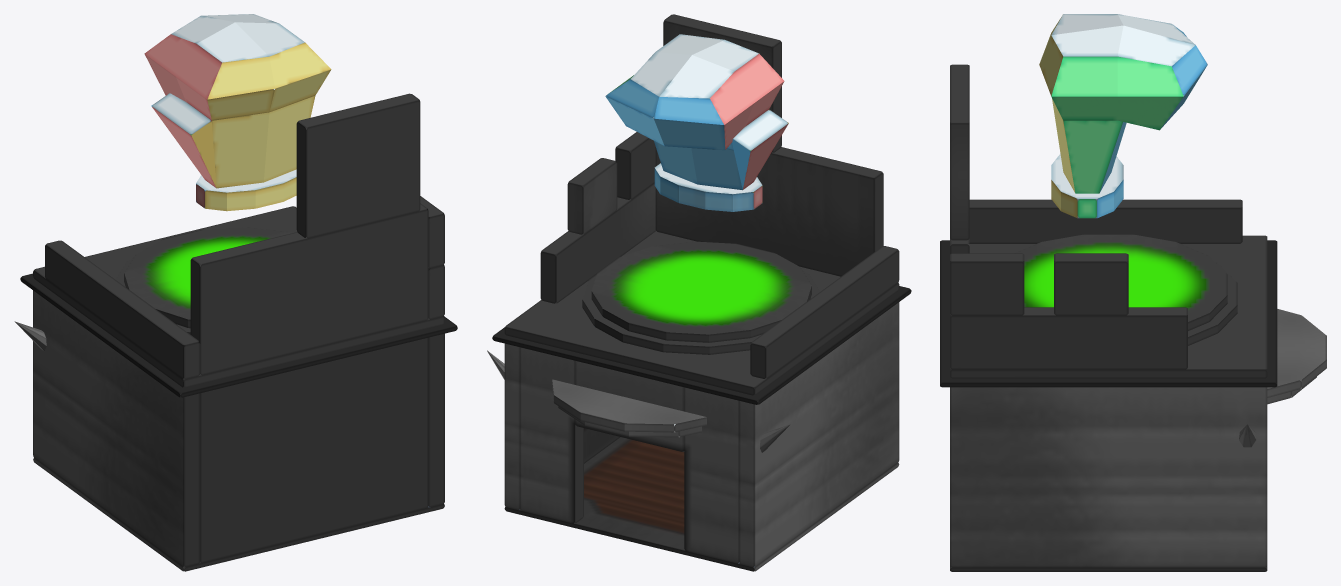
File: BoxingBuilding.fbx
3 views of the same model, side by side, from view 1: azimuth 30°, elevation 25°; view 2: azimuth 150°, elevation 25°; view 3: azimuth 270°, elevation 25° (orthographic). The views are drawn at different scales.
Visible parts, largest first — view 1: cuboid_3, cuboid_2, cuboid_13, Fist, cuboid_14, cuboid_10, cuboid_8, cylinder_3, cuboid_7, cuboid_1, cuboid, cuboid_12 (+1 smaller); view 2: cuboid_2, Fist, cylinder_3, cuboid_13, cuboid, cuboid_8, cuboid_4, cuboid_5, cuboid_10, cuboid_9, cylinder, cuboid_7 (+7 smaller); view 3: cuboid_1, Fist, cuboid_9, cuboid_8, cuboid_10, cylinder_3, cuboid_7, cuboid_12, cuboid_11, cuboid_14, cylinder, cuboid (+1 smaller).
Boxes of the visible parts, x1,y1,x2,y2 form: cuboid_3: (200,337,428,563); cuboid_2: (33,290,200,566); cuboid_13: (190,203,428,375); Fist: (144,14,331,211); cuboid_14: (296,93,420,238); cuboid_10: (45,240,200,379); cuboid_8: (33,206,444,387); cylinder_3: (124,227,292,328); cuboid_7: (20,273,457,397); cuboid_1: (428,333,444,507); cuboid: (33,458,444,571); cuboid_12: (420,196,444,268); cuboid_2: (739,302,899,567); Fist: (605,34,788,211); cylinder_3: (591,241,811,342); cuboid_13: (655,147,883,276); cuboid: (504,437,899,571); cuboid_8: (504,231,899,395); cuboid_4: (520,347,583,523); cuboid_5: (684,387,739,563); cuboid_10: (750,246,899,378); cuboid_9: (540,183,656,303); cylinder: (552,379,706,432); cuboid_7: (492,286,911,404); cuboid_1: (950,387,1267,567); Fist: (1039,14,1207,218); cuboid_9: (950,307,1187,369); cuboid_8: (950,235,1267,378); cuboid_10: (969,199,1242,243); cylinder_3: (1015,234,1227,330); cuboid_7: (940,240,1277,387); cuboid_12: (950,253,1024,315); cuboid_11: (1054,253,1128,315); cuboid_14: (950,64,969,240); cylinder: (1267,309,1326,397); cuboid: (950,566,1267,571).
Bounding box in the file's own units: 487 × 669 × 488.
Materials: 1 (1 with a texture image).
